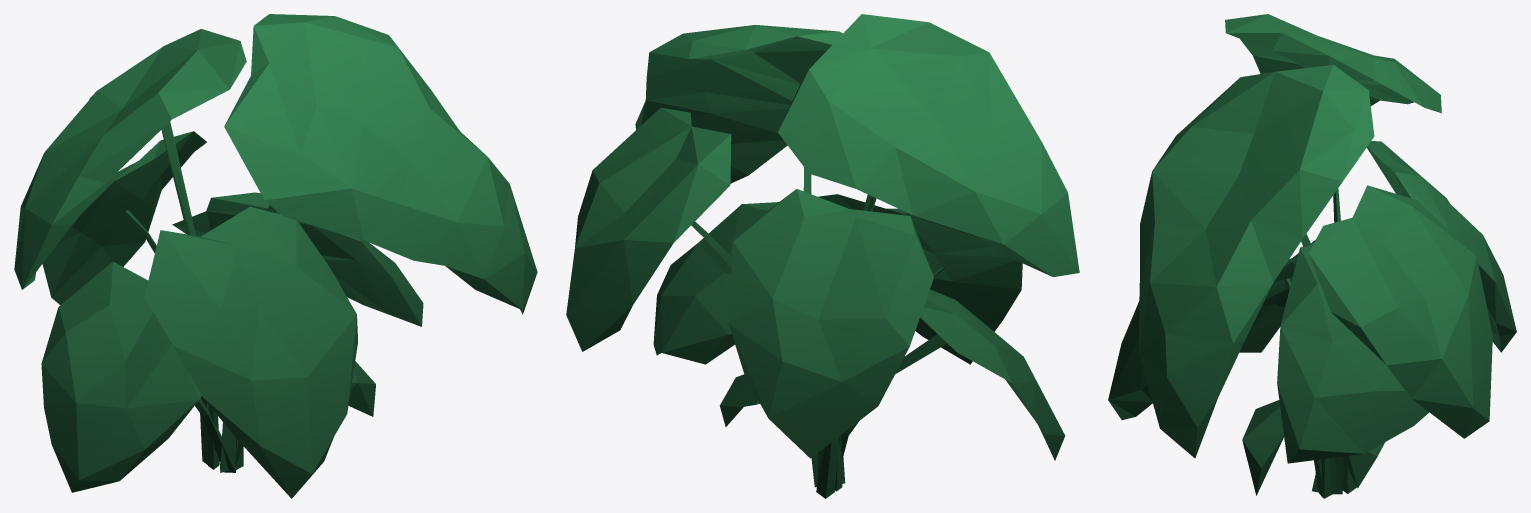
Rendered from ZLP_Grass_D_6.FBX.
The picture shows the model from 3 angles, left to right: view 1: azimuth 30°, elevation 25°; view 2: azimuth 150°, elevation 25°; view 3: azimuth 270°, elevation 25°; orthographic projection. The views are drawn at different scales.
Parts seen in each view (by area): view 1: ZLP_Grass_D_6; view 2: ZLP_Grass_D_6; view 3: ZLP_Grass_D_6.
Part boxes in pixels (x1,y1,x2,y2): ZLP_Grass_D_6: [14, 14, 537, 498]; ZLP_Grass_D_6: [566, 14, 1079, 498]; ZLP_Grass_D_6: [1108, 14, 1516, 498].
Size of the model in its own units: 145 by 132 by 107.
